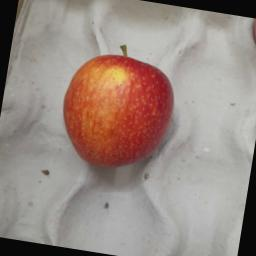Apple Ripe: (52, 34, 186, 184)
